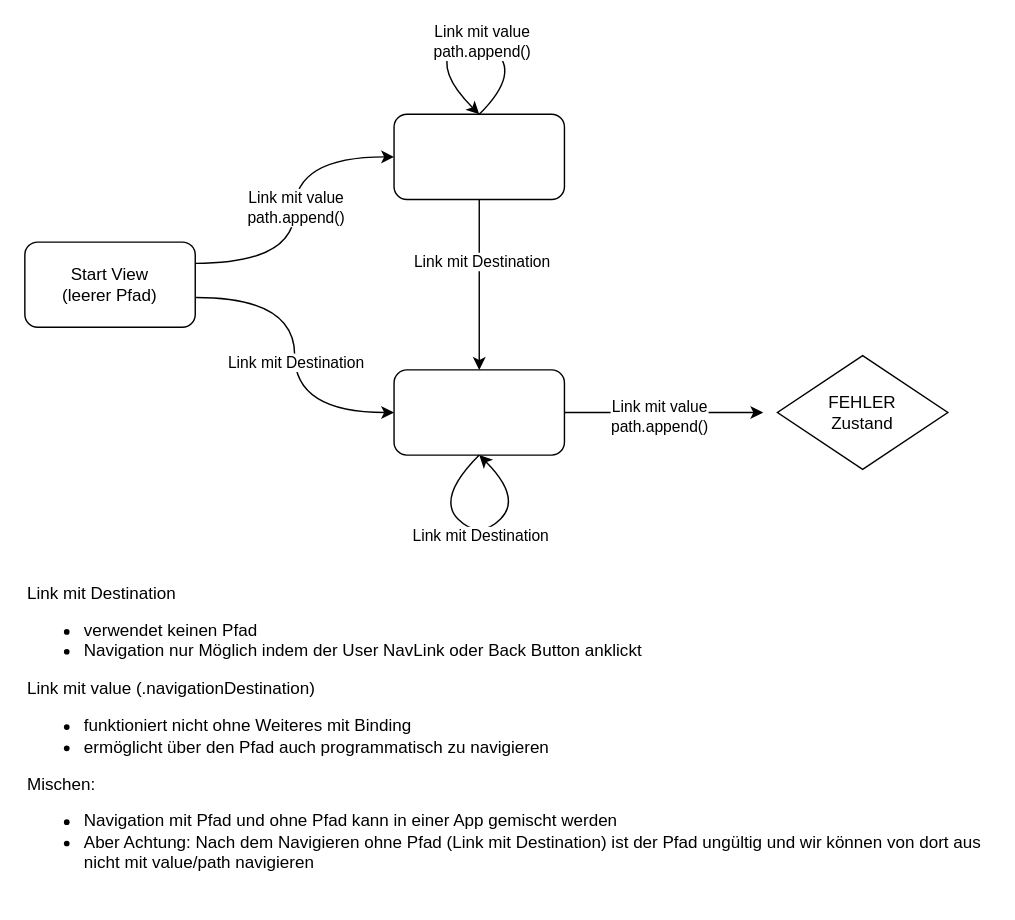
This 1015x920 diagram has some shape labels left out. Here are the shapes that lost their labels. From the top down, the box of each, then its label:
(393, 113, 564, 200): View mit gültigem Pfad
(393, 368, 564, 455): View ohne gültigen Pfad
